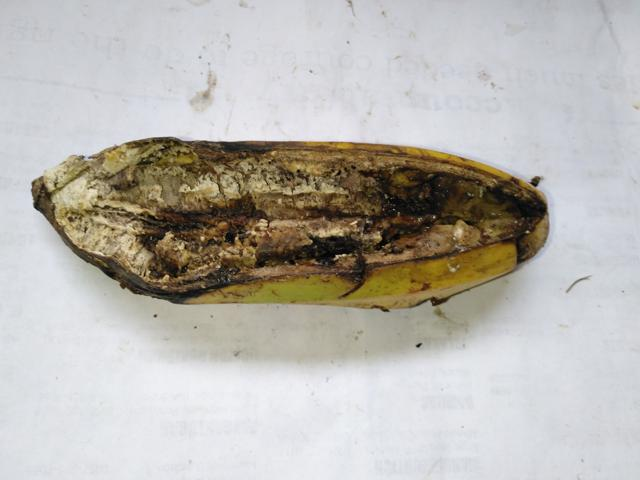rotten: (28, 129, 570, 302)
